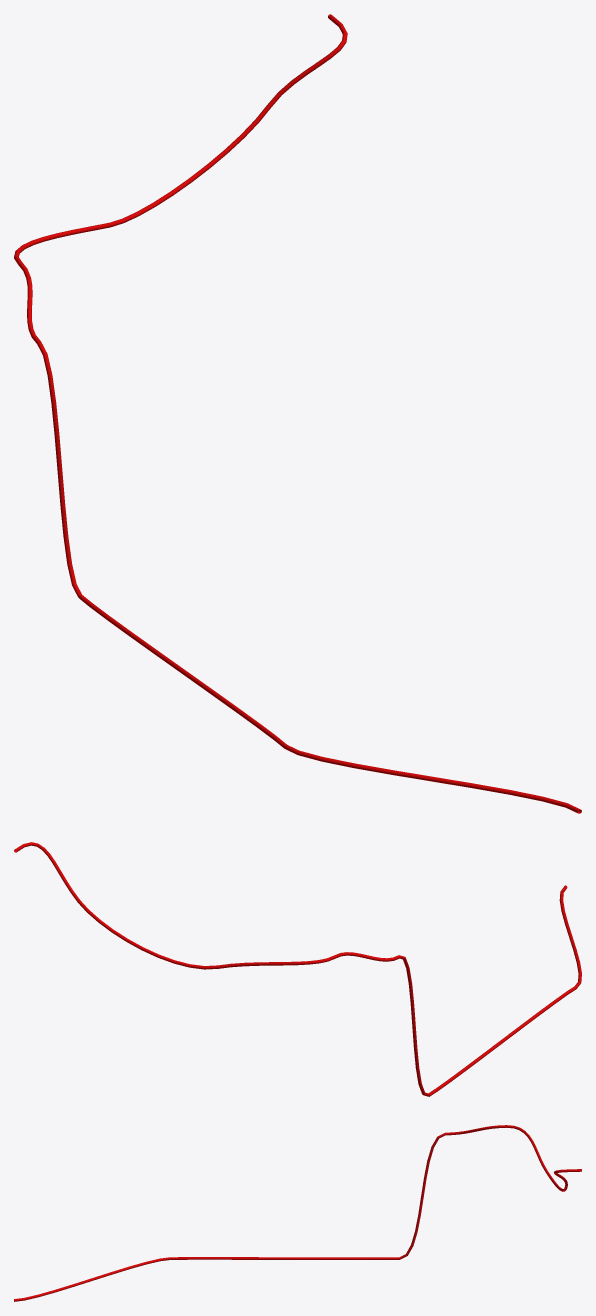
File: Attic_Cable_01_LP_Splines_13.glb
3 views of the same model, one above another, from view 1: azimuth 30°, elevation 25°; view 2: azimuth 150°, elevation 25°; view 3: azimuth 270°, elevation 25° (orthographic). The views are drawn at different scales.
Parts seen in each view (by area): view 1: Attic_Cable_01_LP_Splines_13; view 2: Attic_Cable_01_LP_Splines_13; view 3: Attic_Cable_01_LP_Splines_13.
Boxes of the visible parts, x1,y1,x2,y2 form: Attic_Cable_01_LP_Splines_13: (14, 14, 581, 813); Attic_Cable_01_LP_Splines_13: (14, 842, 581, 1096); Attic_Cable_01_LP_Splines_13: (14, 1125, 581, 1301).
Size of the model in its own units: 0.7052 by 0.5881 by 1.49.
